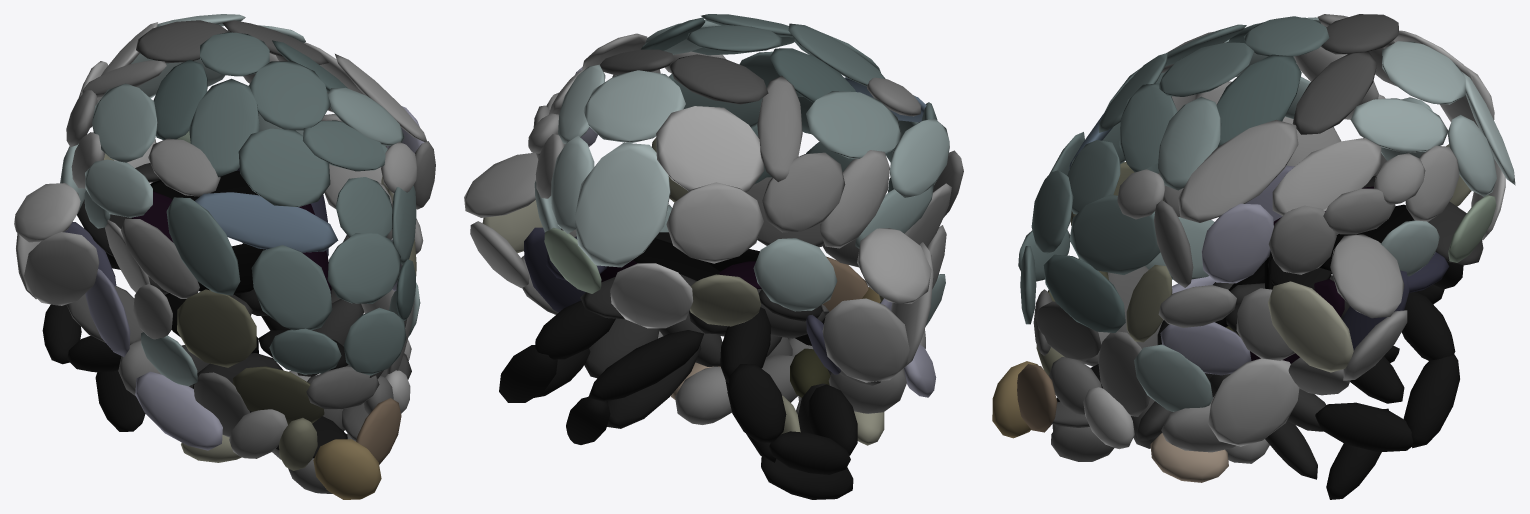
The model's file is DamagedHelmet_1024B_ellip.glb.
3 renders of one model, left to right at view 1: azimuth 30°, elevation 25°; view 2: azimuth 150°, elevation 25°; view 3: azimuth 270°, elevation 25°, orthographic. The views are drawn at different scales.
Bounding box in the file's own units: 1.94 × 1.83 × 2.06.
